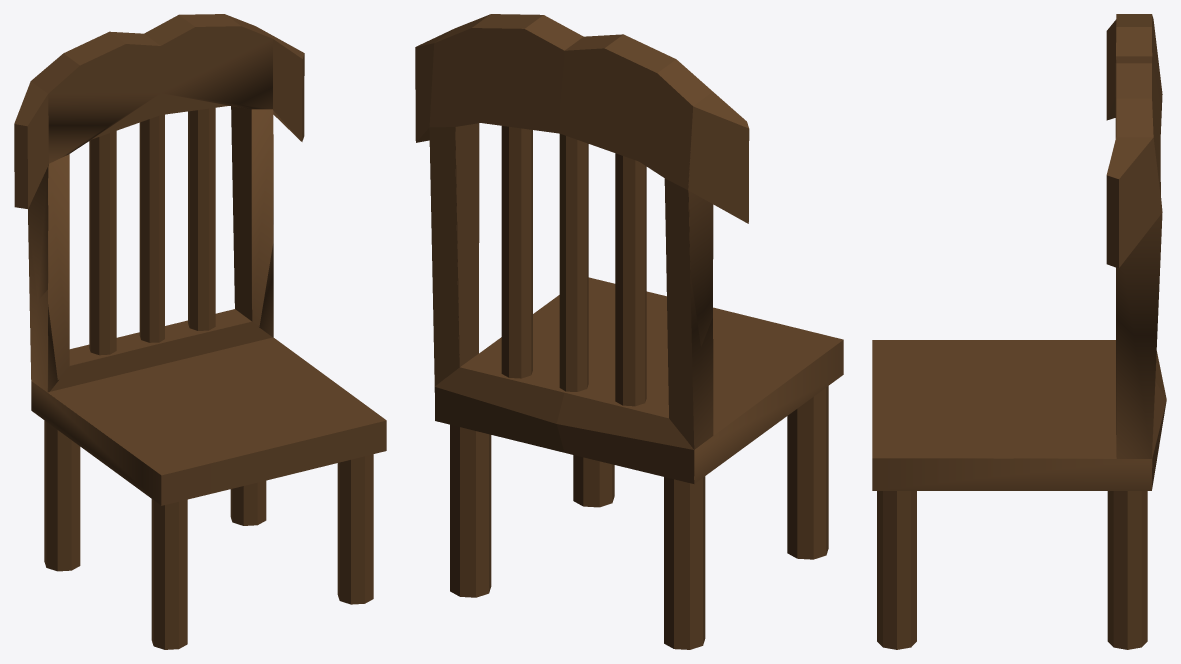
The model's file is chair-parts.fbx.
3 renders of one model, left to right at view 1: azimuth 30°, elevation 25°; view 2: azimuth 150°, elevation 25°; view 3: azimuth 270°, elevation 25°, orthographic. The views are drawn at different scales.
Parts seen in each view (by area): view 1: chair, chair.004, chair.003, chair.002, chair.006, chair.001, chair.005, leg1, leg3, leg2, leg4; view 2: chair, chair.004, chair.003, chair.002, chair.006, chair.001, chair.005, leg2, leg4, leg1, leg3; view 3: chair, chair.004, chair.003, leg4, leg3.
Boxes of the visible parts, x1,y1,x2,y2 form: chair: (31, 309, 386, 505); chair.004: (14, 14, 304, 208); chair.003: (231, 106, 273, 337); chair.002: (28, 154, 69, 392); chair.006: (188, 107, 215, 330); chair.001: (89, 131, 116, 355); chair.005: (139, 114, 164, 342); leg1: (151, 499, 187, 649); leg3: (337, 454, 373, 604); leg2: (44, 420, 80, 571); leg4: (230, 480, 266, 525); chair: (434, 277, 843, 483); chair.004: (415, 14, 749, 223); chair.003: (429, 123, 479, 386); chair.002: (664, 178, 713, 449); chair.006: (501, 126, 532, 378); chair.001: (615, 153, 646, 406); chair.005: (559, 134, 588, 391); leg2: (664, 476, 705, 649); leg4: (450, 424, 491, 597); leg1: (787, 386, 828, 559); leg3: (573, 455, 614, 507); chair: (872, 340, 1166, 490); chair.004: (1106, 14, 1162, 268); chair.003: (1116, 213, 1162, 458); leg4: (1107, 491, 1147, 649); leg3: (877, 491, 916, 649).
Size of the model in its own units: 2.73 by 4.58 by 2.23.
